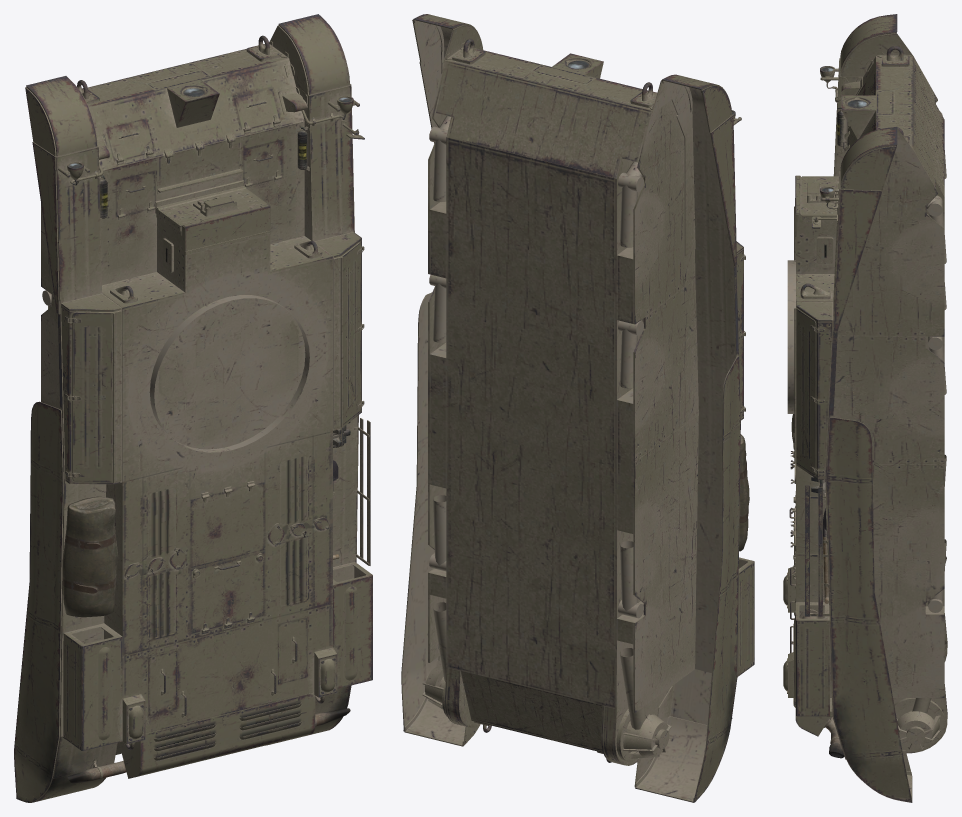
The model's file is Hull.glb.
The picture shows the model from 3 angles, left to right: view 1: azimuth 30°, elevation 25°; view 2: azimuth 150°, elevation 25°; view 3: azimuth 270°, elevation 25°; orthographic projection. The views are drawn at different scales.
Parts seen in each view (by area): view 1: set_0_group_0; view 2: set_0_group_0; view 3: set_0_group_0.
Boxes of the visible parts, bbox=[...] form: set_0_group_0: bbox=[14, 14, 372, 802]; set_0_group_0: bbox=[401, 14, 754, 802]; set_0_group_0: bbox=[783, 14, 947, 802].
Bounding box in the file's own units: 2.66 × 5.88 × 1.33.
Materials: 1 (1 with a texture image).
